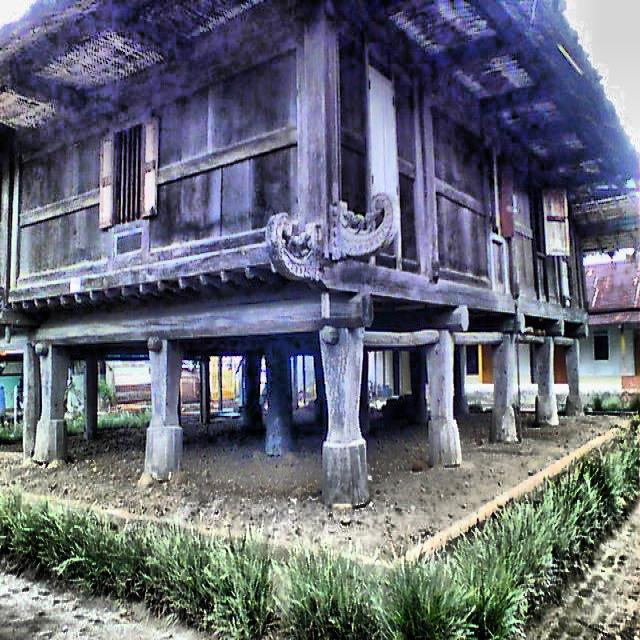column: (319, 329, 369, 506), (145, 340, 183, 480), (425, 330, 460, 466), (33, 344, 67, 461), (490, 333, 520, 443), (536, 337, 558, 425), (24, 344, 39, 458), (566, 338, 583, 416), (85, 361, 97, 439)
ornamen: (266, 193, 397, 281)
roof: (0, 0, 639, 250)
wall: (1, 2, 586, 324)
window: (99, 118, 158, 229), (369, 66, 398, 205), (533, 187, 569, 256), (488, 147, 513, 236)
